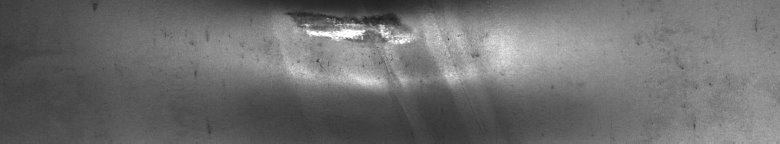ke: (285, 12, 410, 44)
